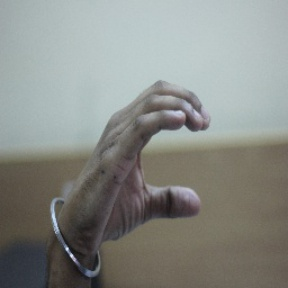C: (105, 80, 225, 232)
